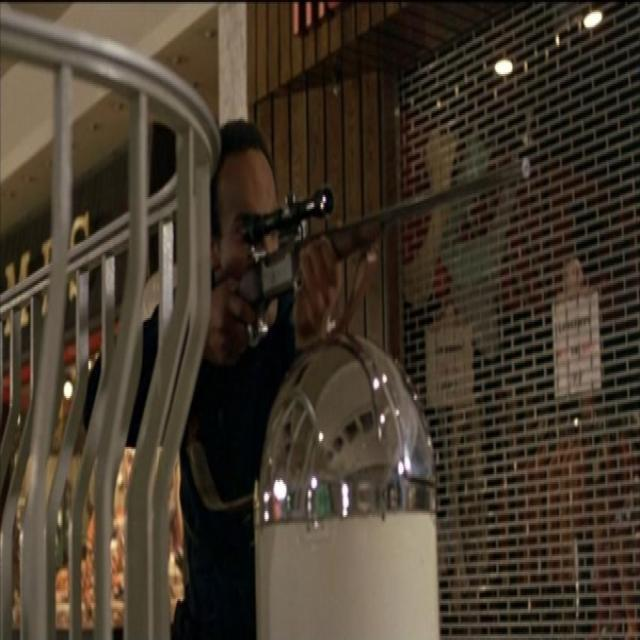rifle: (206, 150, 536, 338)
